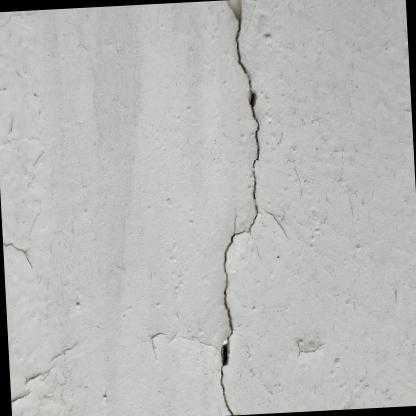crack: (218, 17, 258, 415)
